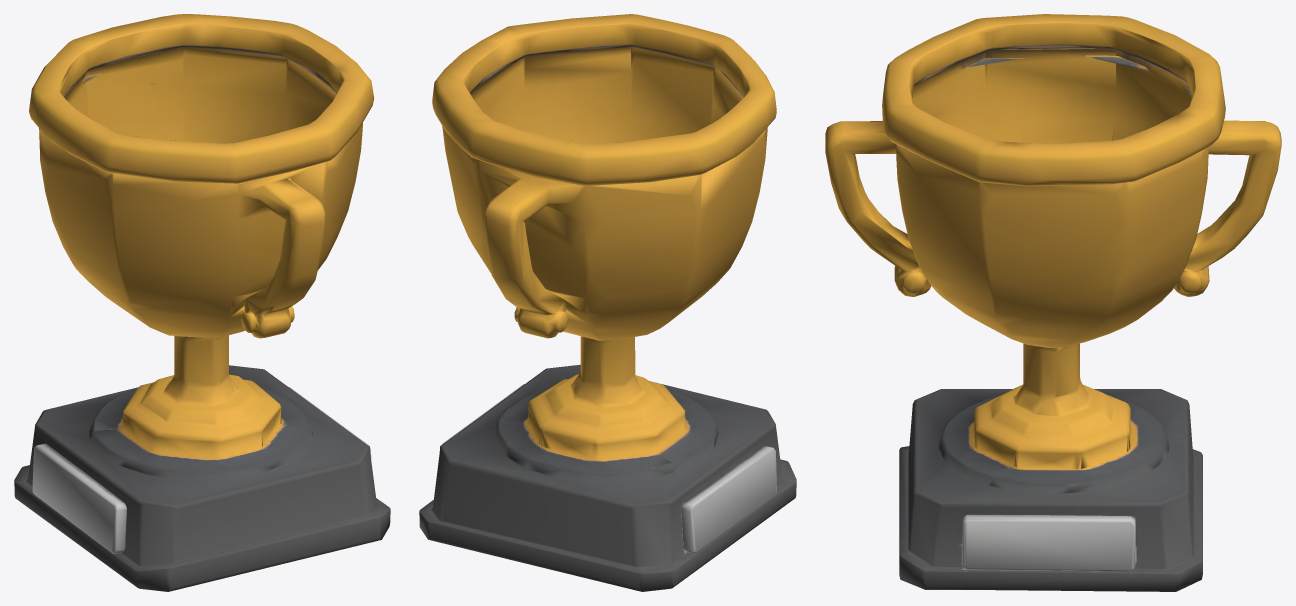
The model's file is trophy.glb.
3 views of the same model, side by side, from view 1: azimuth 30°, elevation 25°; view 2: azimuth 150°, elevation 25°; view 3: azimuth 270°, elevation 25° (orthographic). The views are drawn at different scales.
Parts seen in each view (by area): view 1: tripo_node_kodyurd-model-85____________________; view 2: tripo_node_kodyurd-model-85____________________; view 3: tripo_node_kodyurd-model-85____________________.
Boxes of the visible parts, x1,y1,x2,y2 form: tripo_node_kodyurd-model-85____________________: [14, 14, 390, 591]; tripo_node_kodyurd-model-85____________________: [419, 14, 796, 591]; tripo_node_kodyurd-model-85____________________: [825, 14, 1281, 591].
Bounding box in the file's own units: 0.6973 × 0.998 × 0.9277.
1 material, 1 textured.
